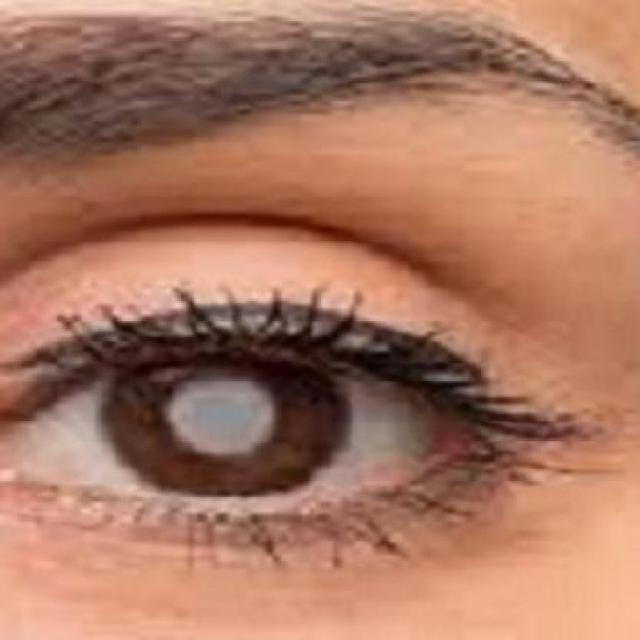awake: (0, 216, 488, 553)
